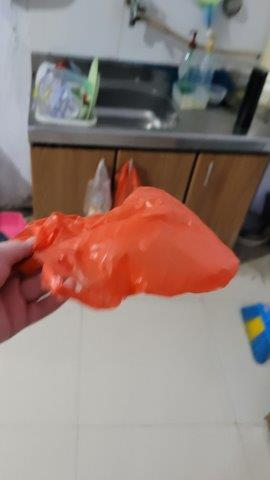plastik: (16, 180, 246, 309)
